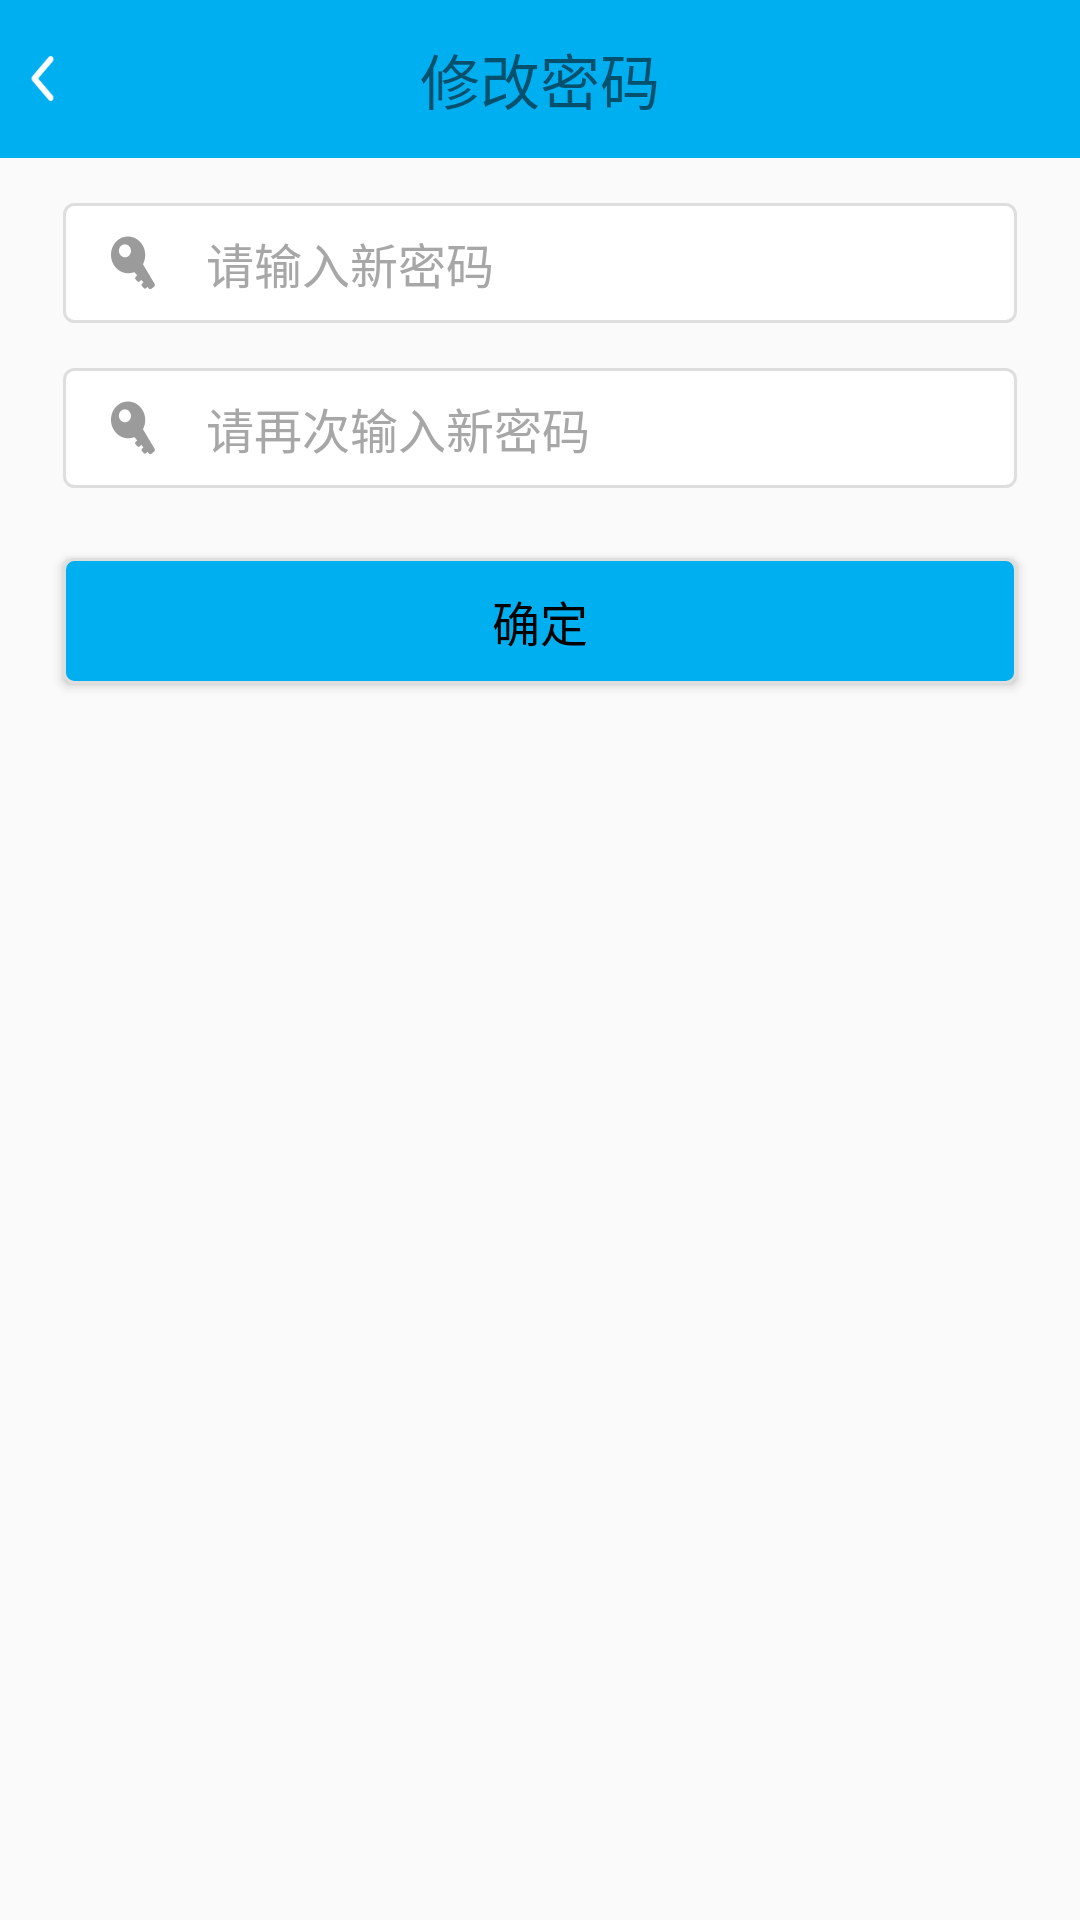

Where icons sit on this 1080 × 1920 app screen, as (x1, y1, x2, y2):
return iv: (31, 56, 54, 101)
